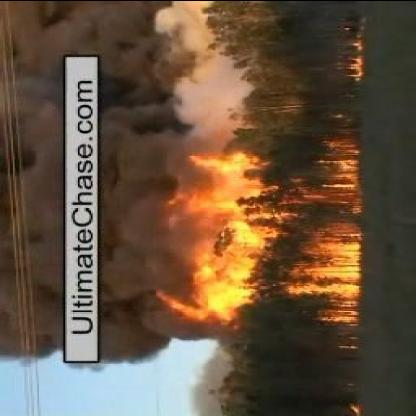-: (102, 53, 170, 359), (10, 53, 58, 359)
foggia-v2-map80-epoch100 - v1 4323: (308, 242, 362, 296)
